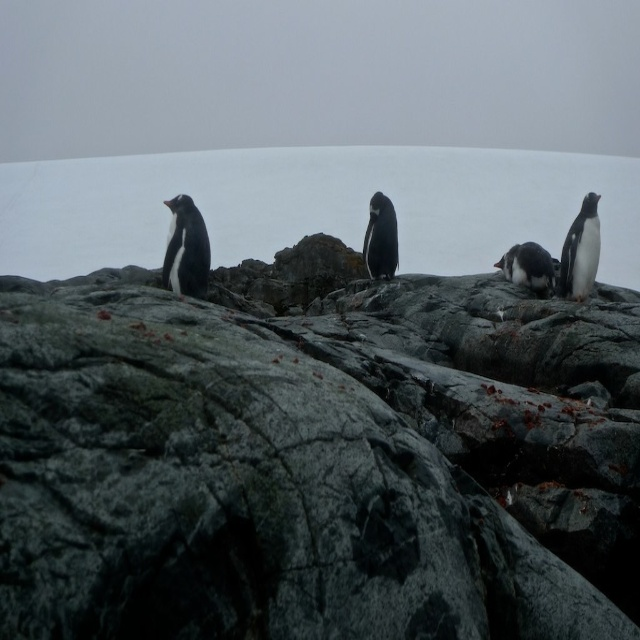Penguin: (158, 188, 214, 307), (559, 191, 601, 299), (363, 199, 398, 292), (494, 240, 558, 287)
